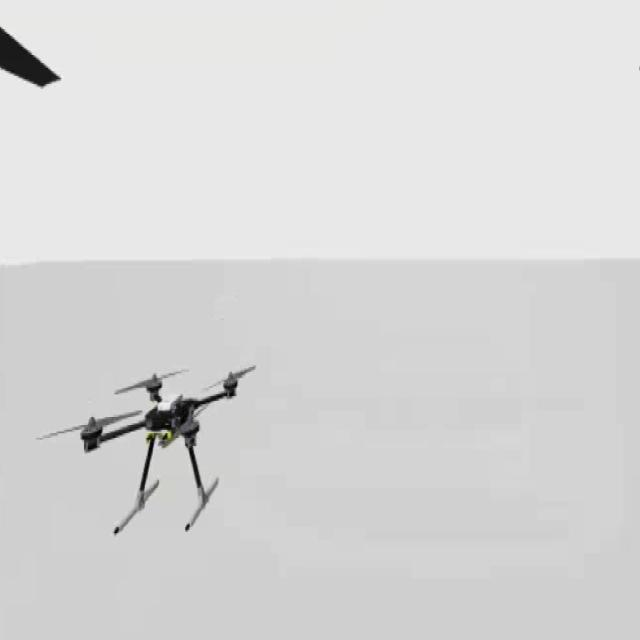drone: (54, 357, 258, 542)
